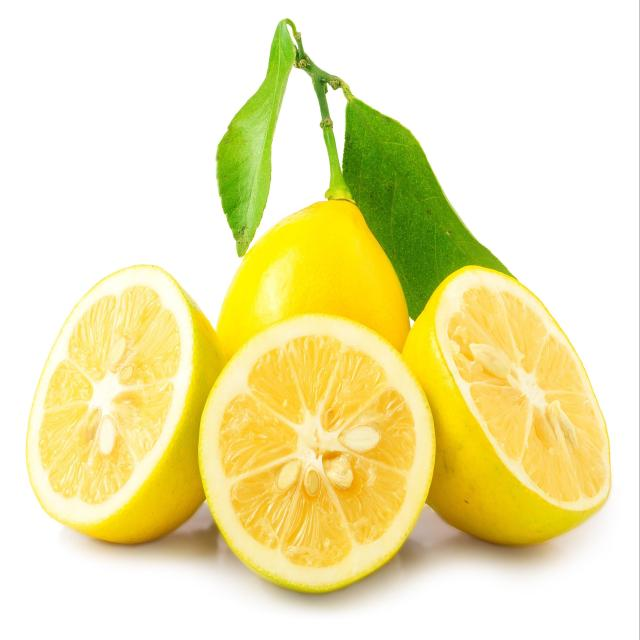lemon: (194, 306, 441, 604), (391, 260, 615, 556)
